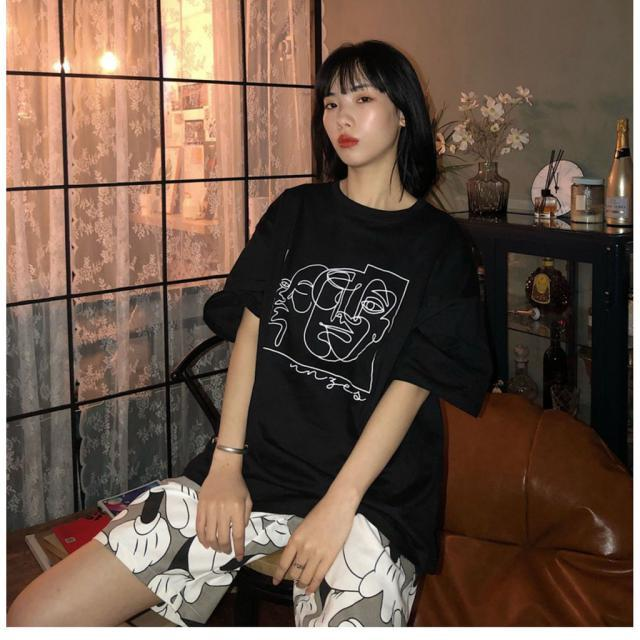Shirt: (200, 172, 502, 577)
